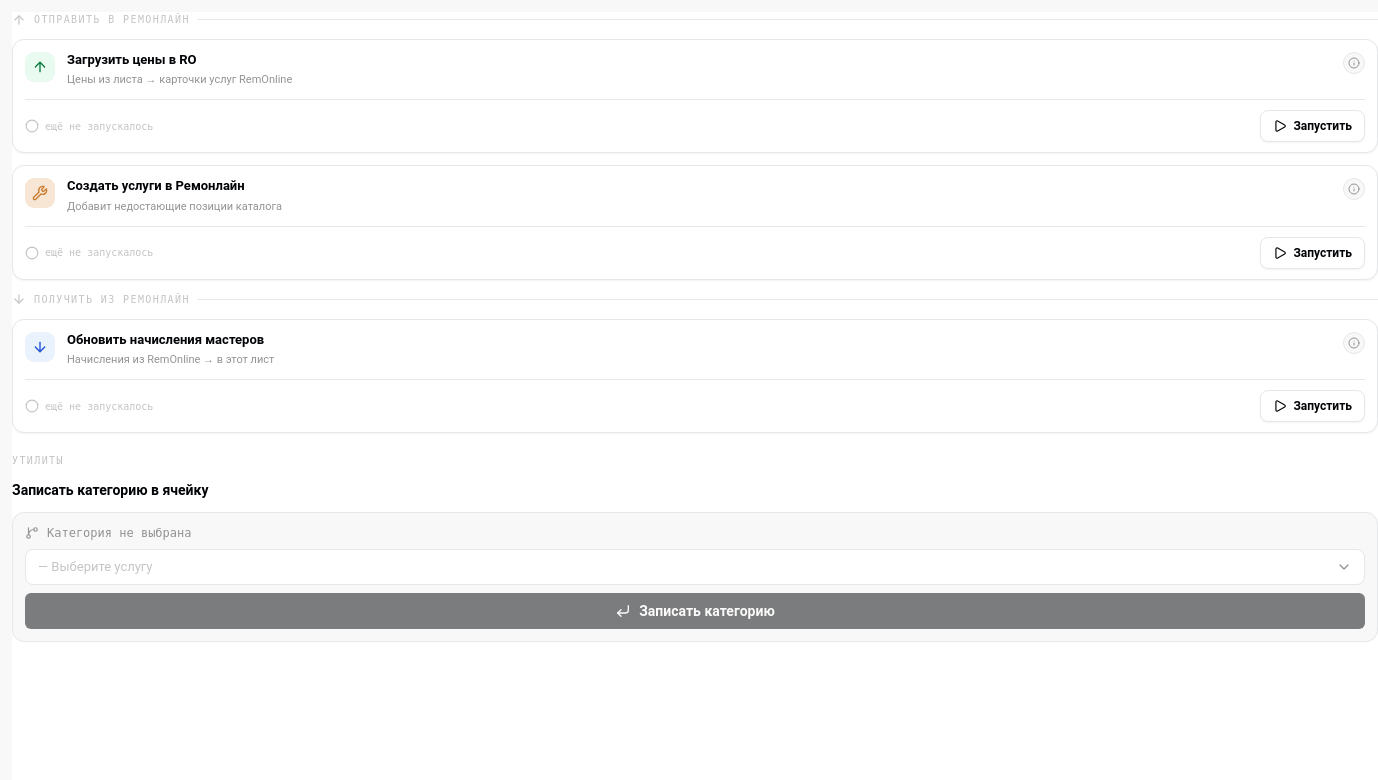
Test: RemonlinePanel › FR4, FR7: success=false marks the card as error, keeps the result block with an errors badge
The image size is (1378, 780).
Click the 1st button "Запустить": point(1313, 126) [1260, 110, 1365, 142]
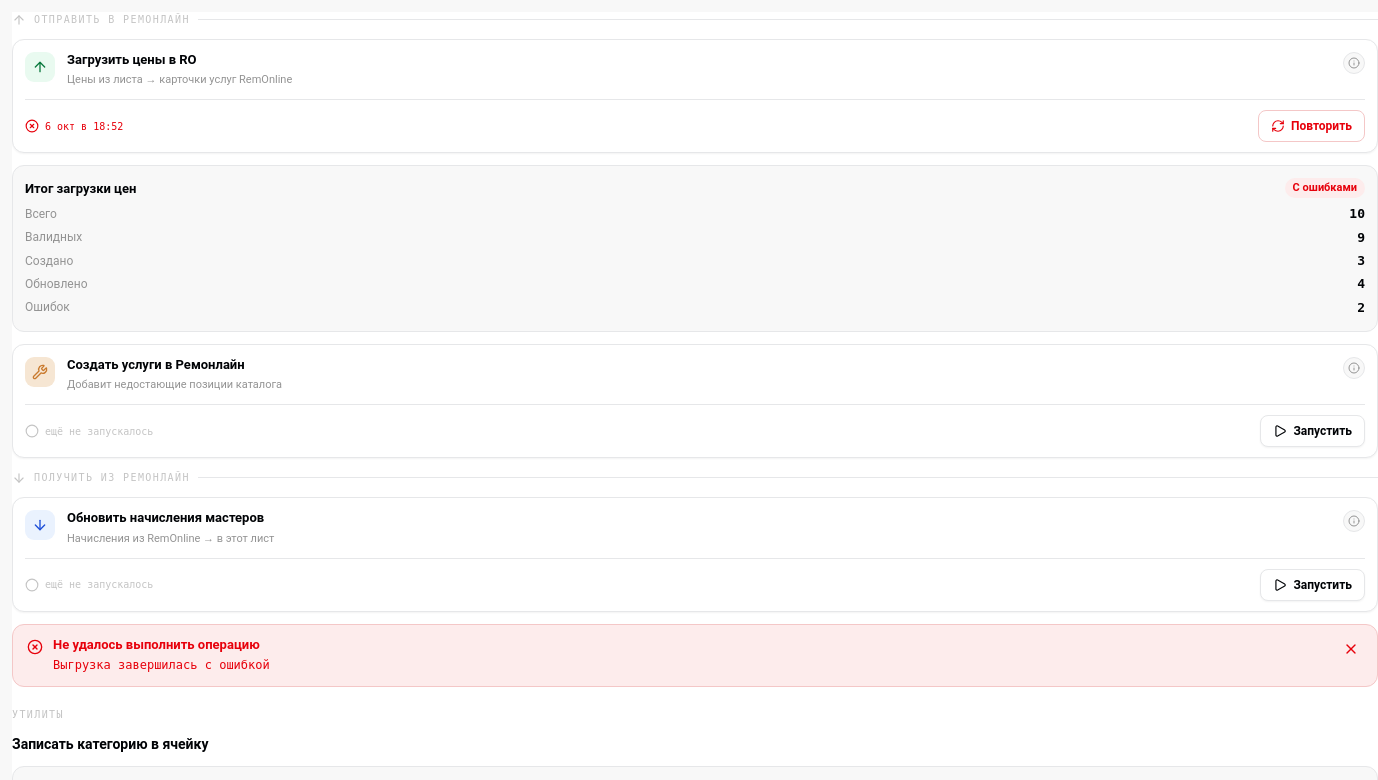
Now the text "С ошибками" is shown, box [1285, 178, 1365, 198]
Now the message with test id "ro-error" shows "Выгрузка завершилась с ошибкой", box [53, 658, 270, 672]
